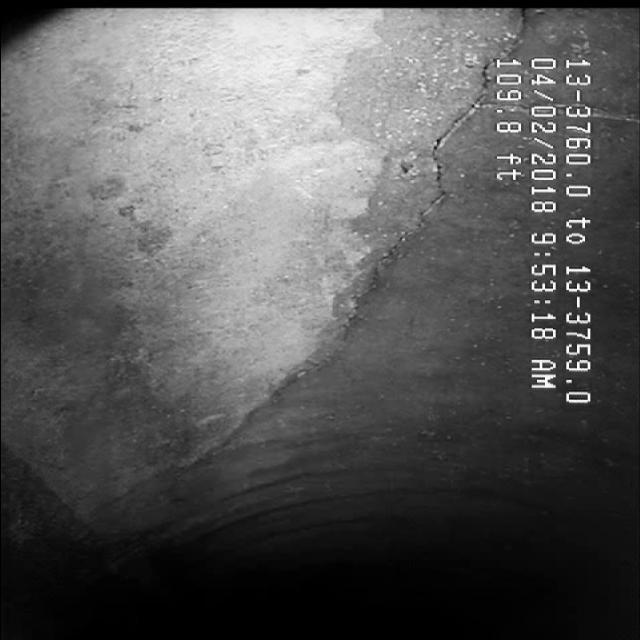Crack: (298, 156, 481, 338)
